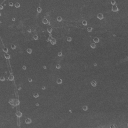corrosion: (6, 97, 20, 108), (46, 36, 57, 45), (23, 117, 32, 126), (96, 13, 104, 22), (90, 79, 99, 87), (110, 4, 119, 12), (55, 77, 63, 85), (7, 74, 15, 81), (35, 6, 43, 13), (32, 91, 39, 99), (81, 20, 88, 27), (26, 48, 33, 55), (56, 15, 63, 22), (92, 36, 99, 43), (55, 63, 62, 70), (14, 3, 21, 10), (65, 36, 73, 42), (20, 64, 27, 70), (82, 104, 88, 111), (32, 34, 38, 40), (10, 44, 16, 50), (57, 51, 62, 57)
